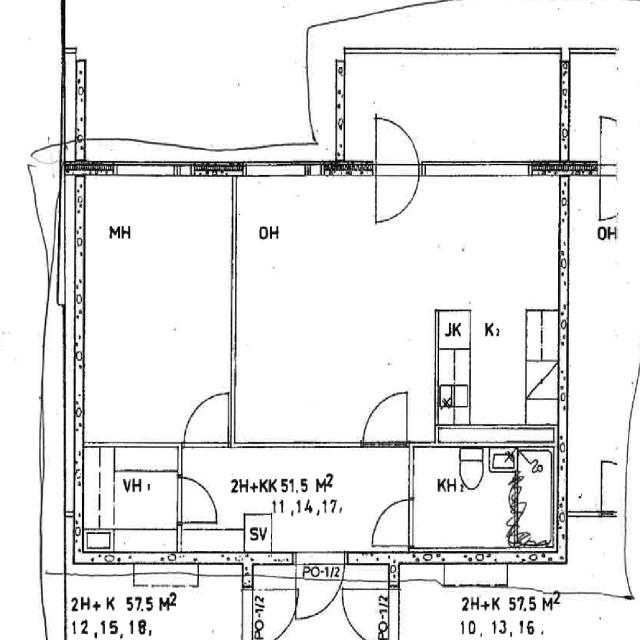door: (373, 112, 422, 218), (180, 389, 230, 447), (362, 387, 410, 442), (177, 474, 218, 524), (371, 496, 412, 546), (458, 457, 484, 493)
window: (417, 163, 539, 186), (110, 160, 176, 183), (243, 160, 306, 182)
zone: (78, 176, 234, 456), (409, 448, 514, 552), (80, 446, 180, 542), (564, 52, 618, 140), (514, 451, 556, 550), (368, 495, 412, 550), (245, 514, 271, 554)
